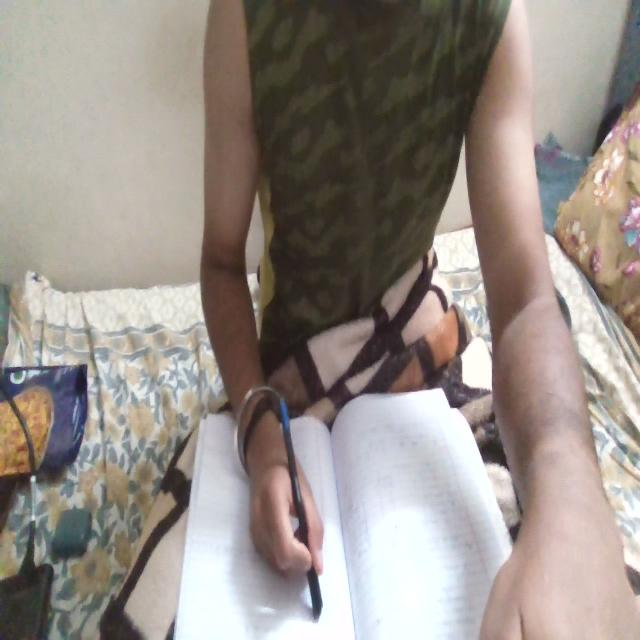book: (175, 390, 528, 640)
pen: (273, 382, 324, 612)
